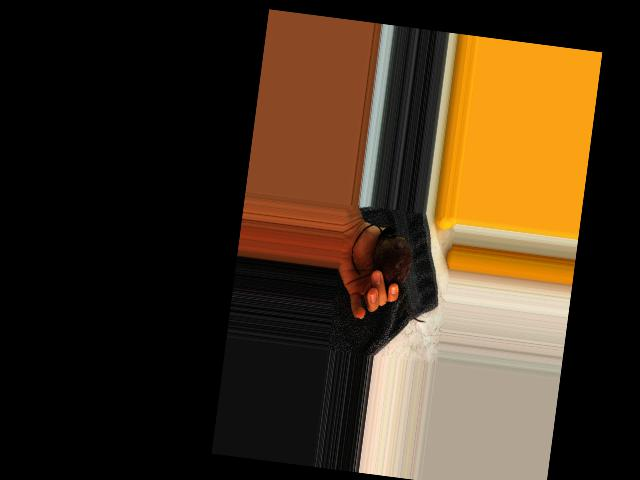beet: (343, 222, 436, 322)
